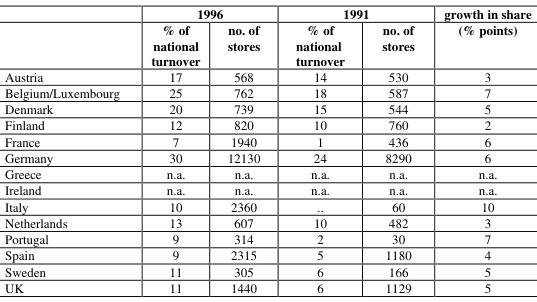table: (4, 4, 530, 295)
table column: (4, 4, 134, 295), (428, 4, 530, 295), (277, 4, 362, 295), (134, 4, 213, 295), (362, 4, 428, 295), (213, 4, 277, 295)
table column header: (4, 4, 530, 68)
table row: (4, 21, 530, 68), (4, 4, 530, 21), (4, 83, 530, 100), (4, 148, 530, 165), (4, 213, 530, 230), (4, 278, 530, 295), (4, 100, 530, 116), (4, 116, 530, 132), (4, 132, 530, 148), (4, 165, 530, 181), (4, 181, 530, 197), (4, 197, 530, 213), (4, 230, 530, 246), (4, 246, 530, 262), (4, 262, 530, 278), (4, 68, 530, 83)
table spanning cell: (428, 4, 530, 68), (277, 4, 428, 21), (134, 4, 277, 21)
